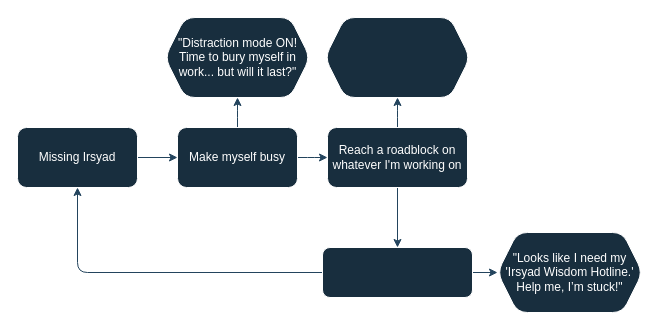
Image size: 660x330. Some labels were removed from this diagram. Each missing label, with the centre of its shape:
"Uh oh... work just threw me a curveball. Need help!": point 397,57
Wants to talk to Irsyad about problems regarding work: point 397,272
